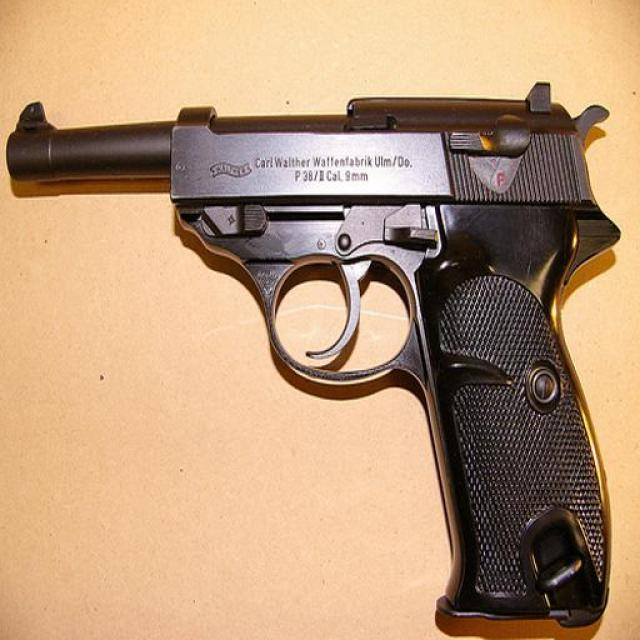pistol: (5, 81, 617, 623)
